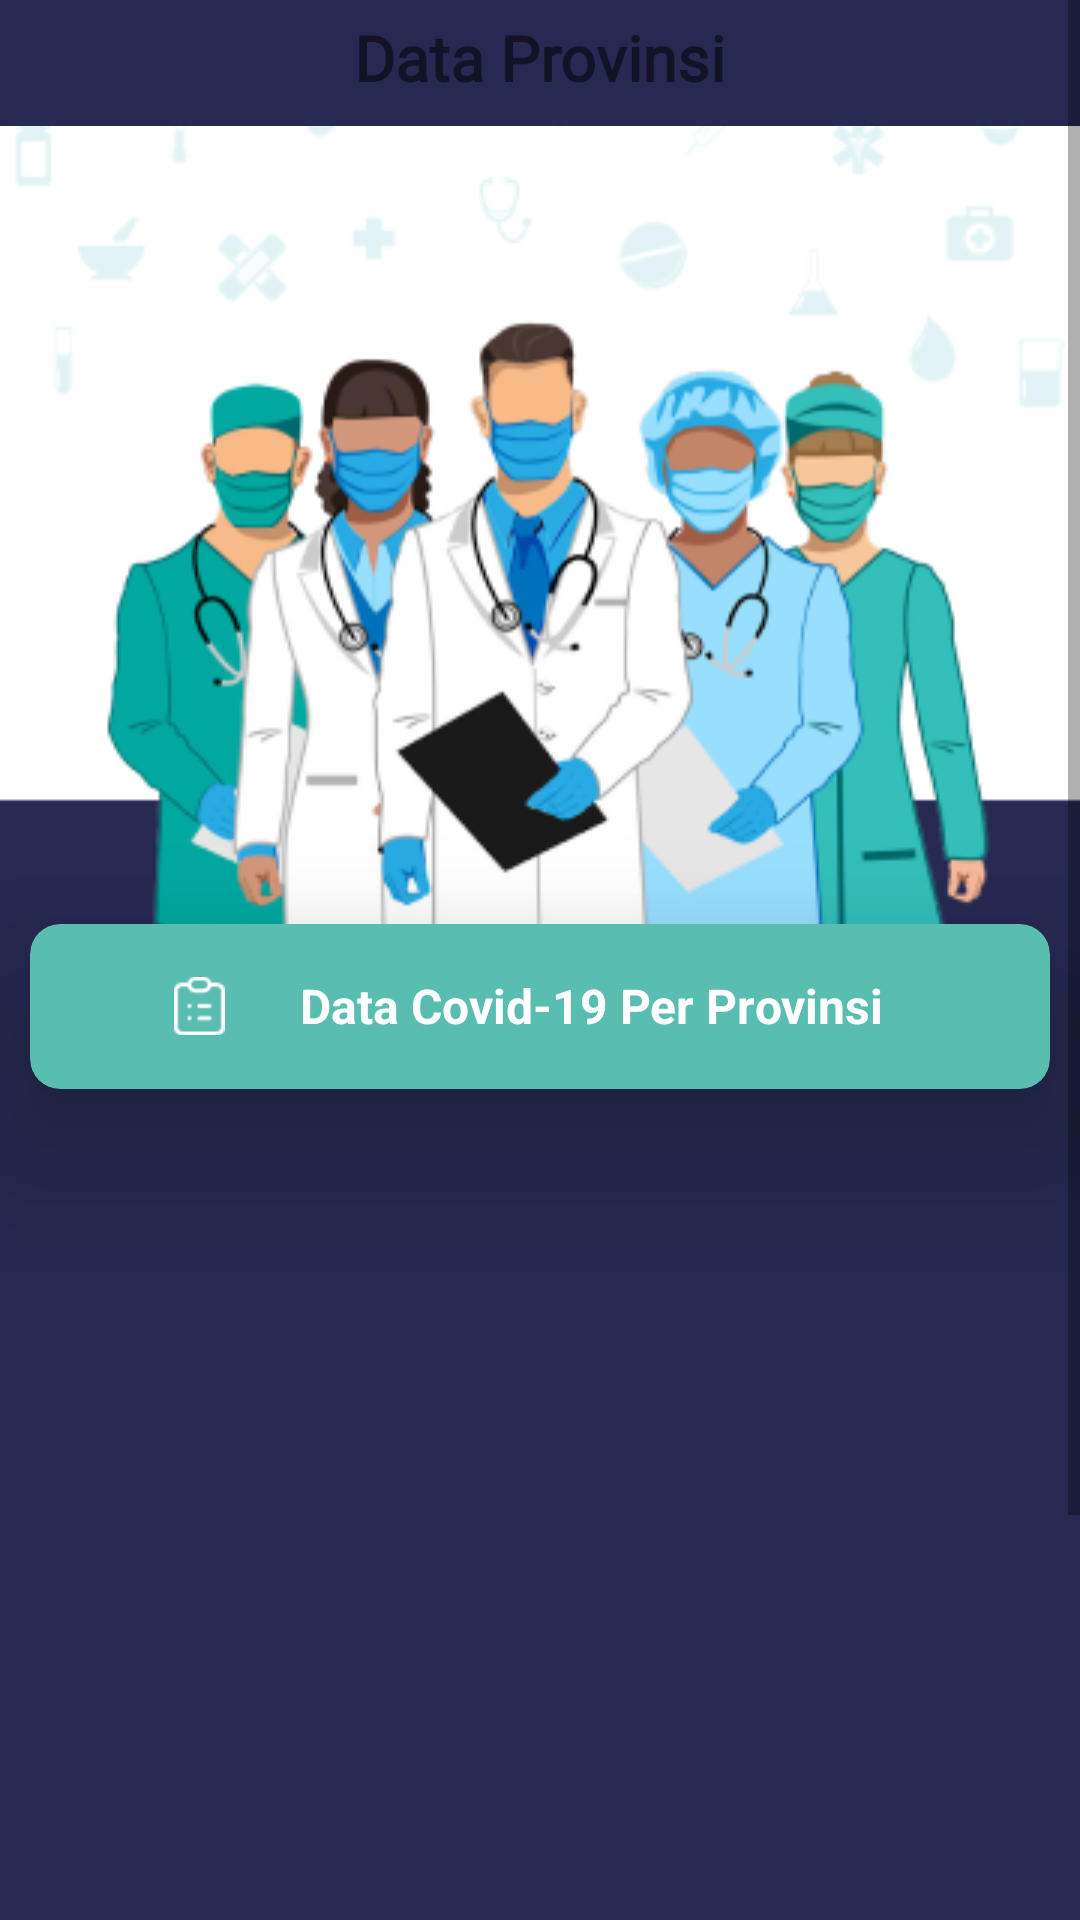

Locate icon controls on the screen. Image size 1080 × 1920, boxes as Rect(x1, y1, x2, y2).
list: Rect(174, 977, 225, 1035)
